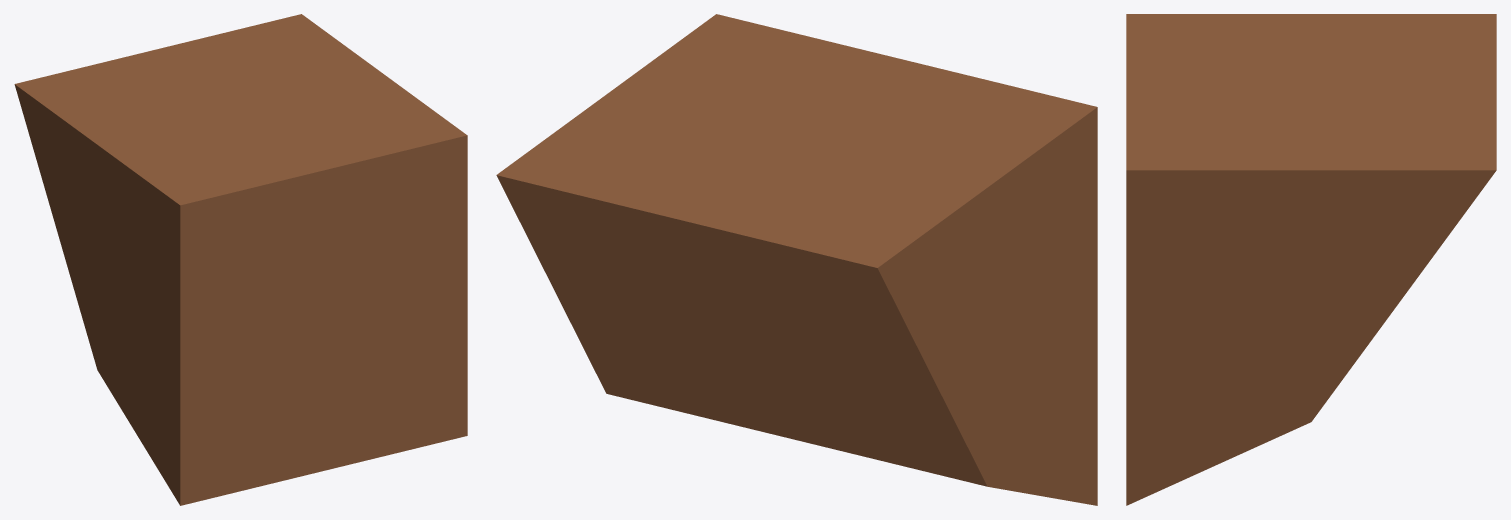
The model's file is blockCliff.glb.
The picture shows the model from 3 angles, left to right: view 1: azimuth 30°, elevation 25°; view 2: azimuth 150°, elevation 25°; view 3: azimuth 270°, elevation 25°; orthographic projection. The views are drawn at different scales.
Visible parts, largest first — view 1: blockCliff; view 2: blockCliff; view 3: blockCliff.
Boxes of the visible parts, <box> form: blockCliff: <box>14,14,467,505</box>; blockCliff: <box>496,14,1097,505</box>; blockCliff: <box>1126,14,1496,505</box>.
Size of the model in its own units: 1 by 1 by 1.
